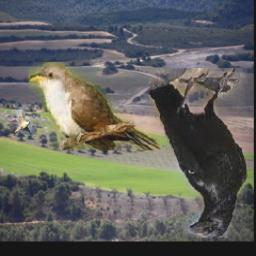Crow: (149, 69, 247, 239)
Cuckoo: (28, 63, 161, 151)
Sparrow: (14, 107, 34, 136)
